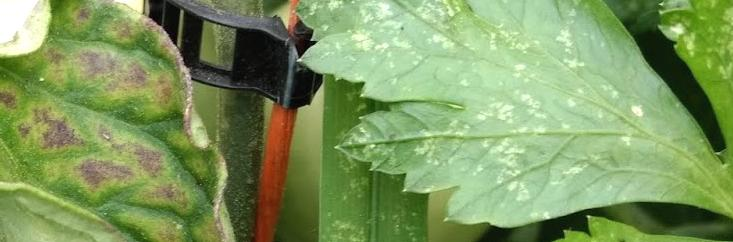Tomato leaf mosaic virus: (292, 0, 729, 229)
